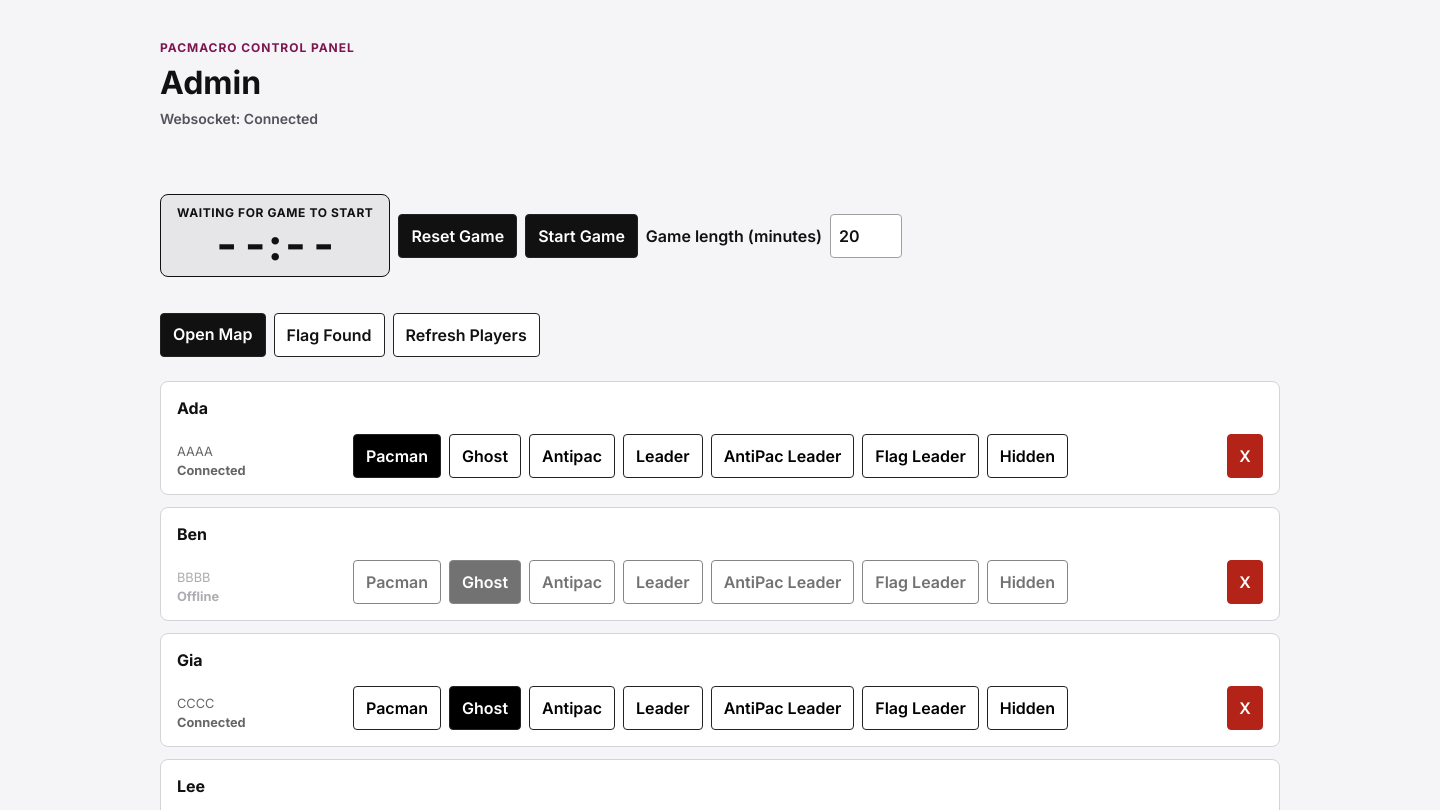
Test: AdminPageComponent › removes a offline player after confirmation
Click the button "X" in the row of "BBBB": (1245, 582) [1227,560,1263,604]
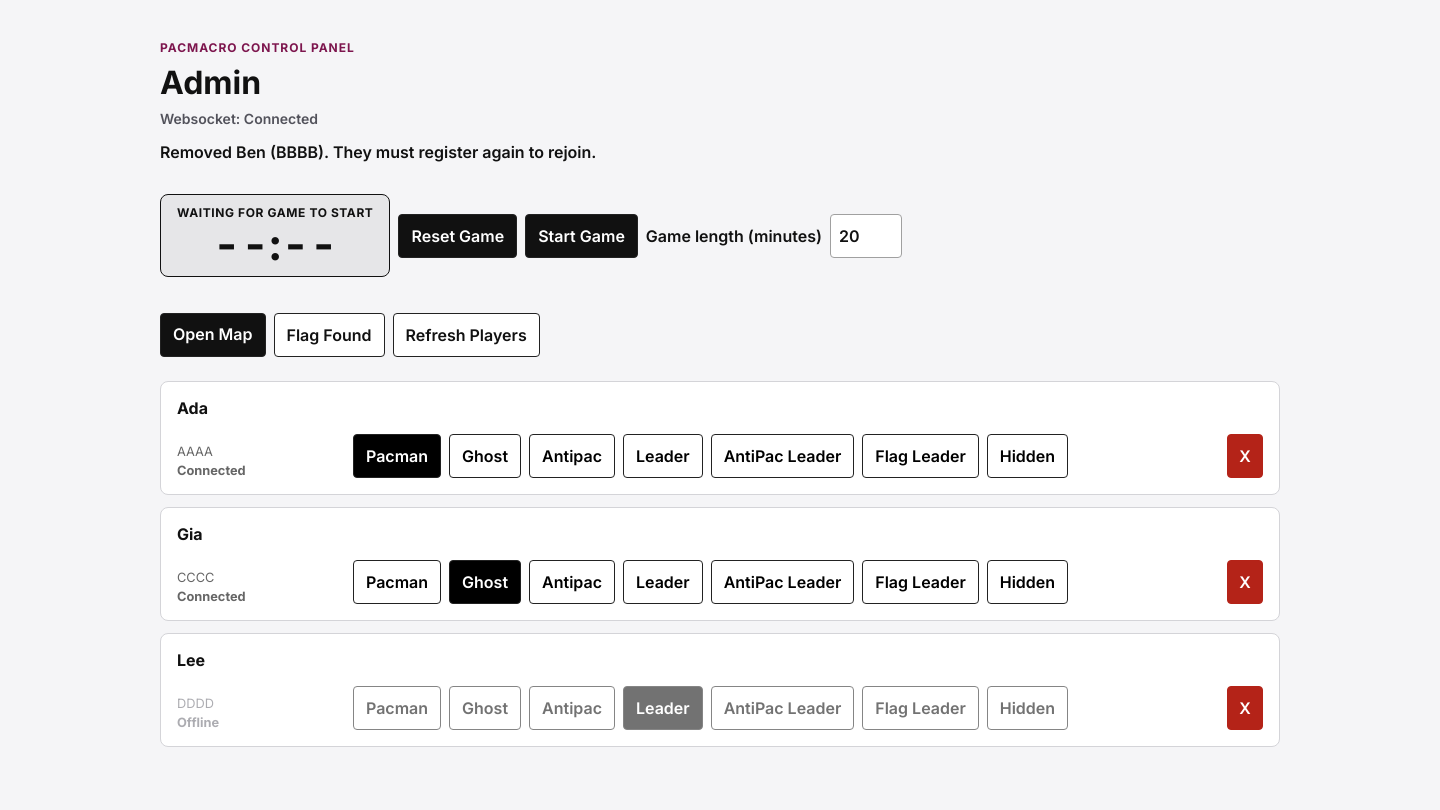
Expected: the message with class "admin-status" shows "must register again", [160,142,596,162]
